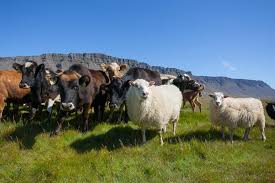sheep: (124, 77, 183, 142), (207, 91, 269, 142)
